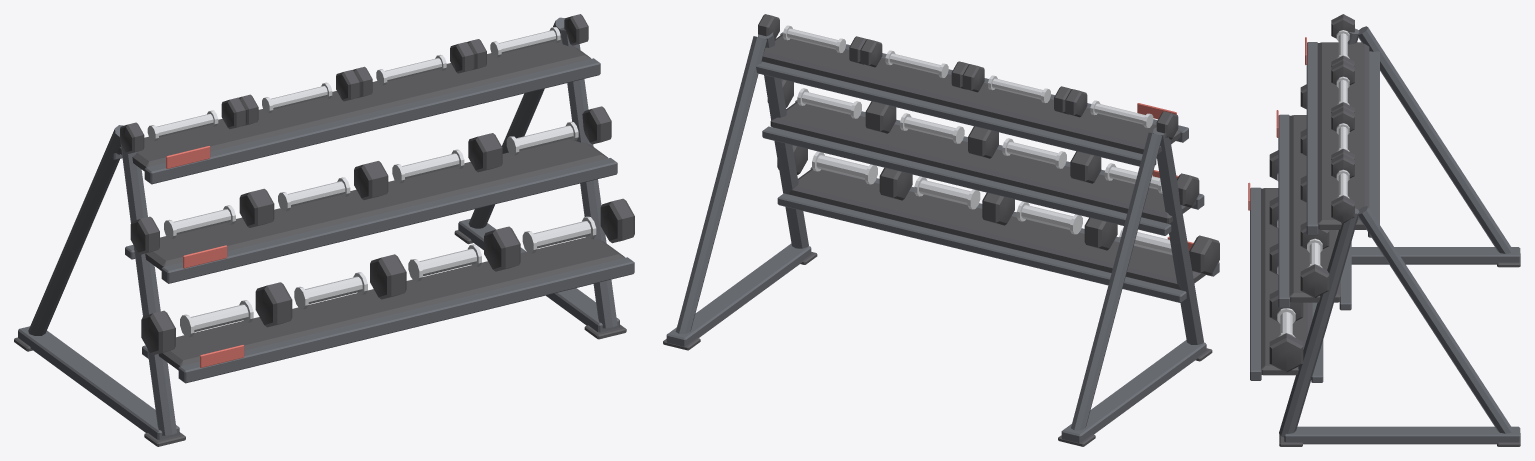
The model's file is dumbbell_rack.glb.
3 renders of one model, left to right at view 1: azimuth 30°, elevation 25°; view 2: azimuth 150°, elevation 25°; view 3: azimuth 270°, elevation 25°, orthographic. The views are drawn at different scales.
Visible parts, largest first — view 1: dumbbell-rack-loaded; view 2: dumbbell-rack-loaded; view 3: dumbbell-rack-loaded.
Part boxes in pixels (x1,y1,x2,y2): dumbbell-rack-loaded: (14, 14, 634, 446); dumbbell-rack-loaded: (663, 14, 1219, 446); dumbbell-rack-loaded: (1248, 14, 1520, 446).
Size of the model in its own units: 1.96 by 1.15 by 1.15.
